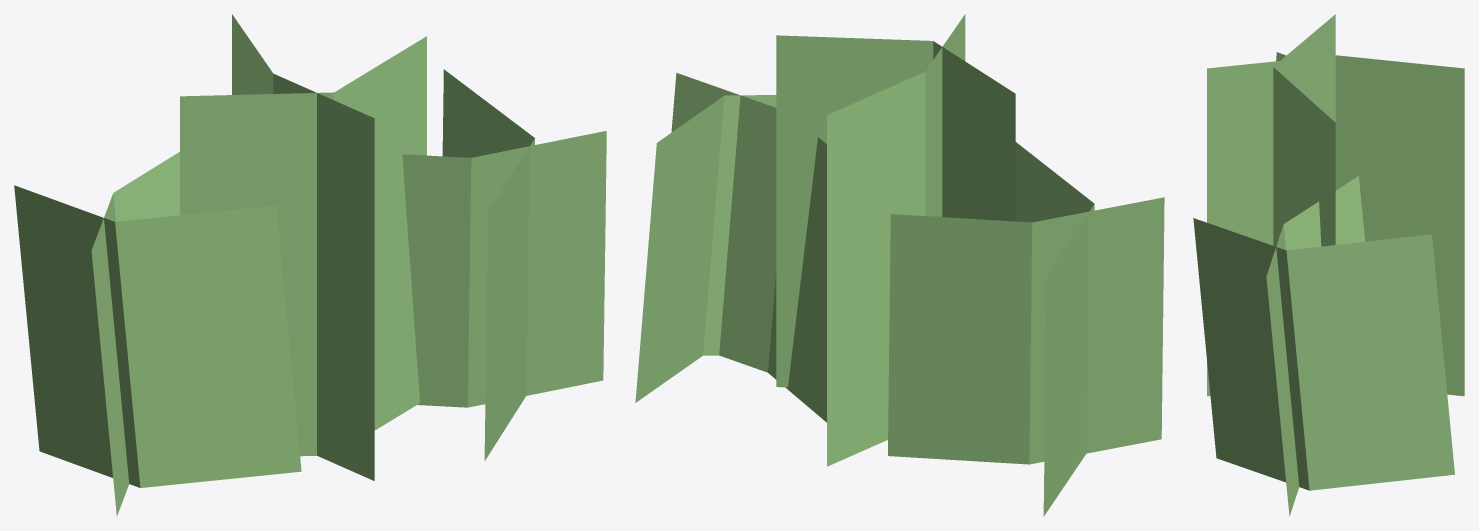
File: SM_Grass01.fbx
3 renders of one model, left to right at view 1: azimuth 30°, elevation 25°; view 2: azimuth 150°, elevation 25°; view 3: azimuth 270°, elevation 25°, orthographic. The views are drawn at different scales.
Visible parts, largest first — view 1: Grass01; view 2: Grass01; view 3: Grass01.
Part boxes in pixels (x1=…): Grass01: x1=14, y1=14, x2=606, y2=516; Grass01: x1=635, y1=14, x2=1164, y2=516; Grass01: x1=1193, y1=14, x2=1464, y2=516.
Bounding box in the file's own units: 74.81 × 51.7 × 37.49.
